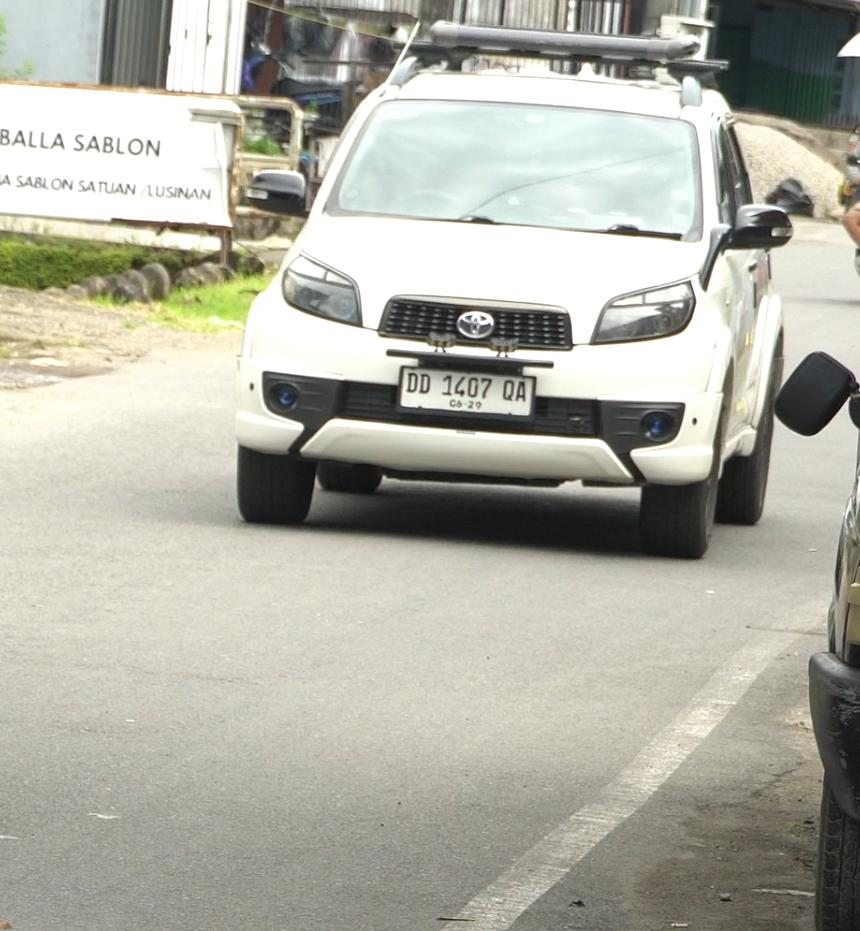number-plate: (391, 360, 543, 424)
